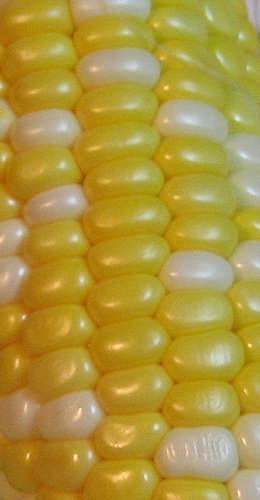corn: (1, 0, 258, 498)
